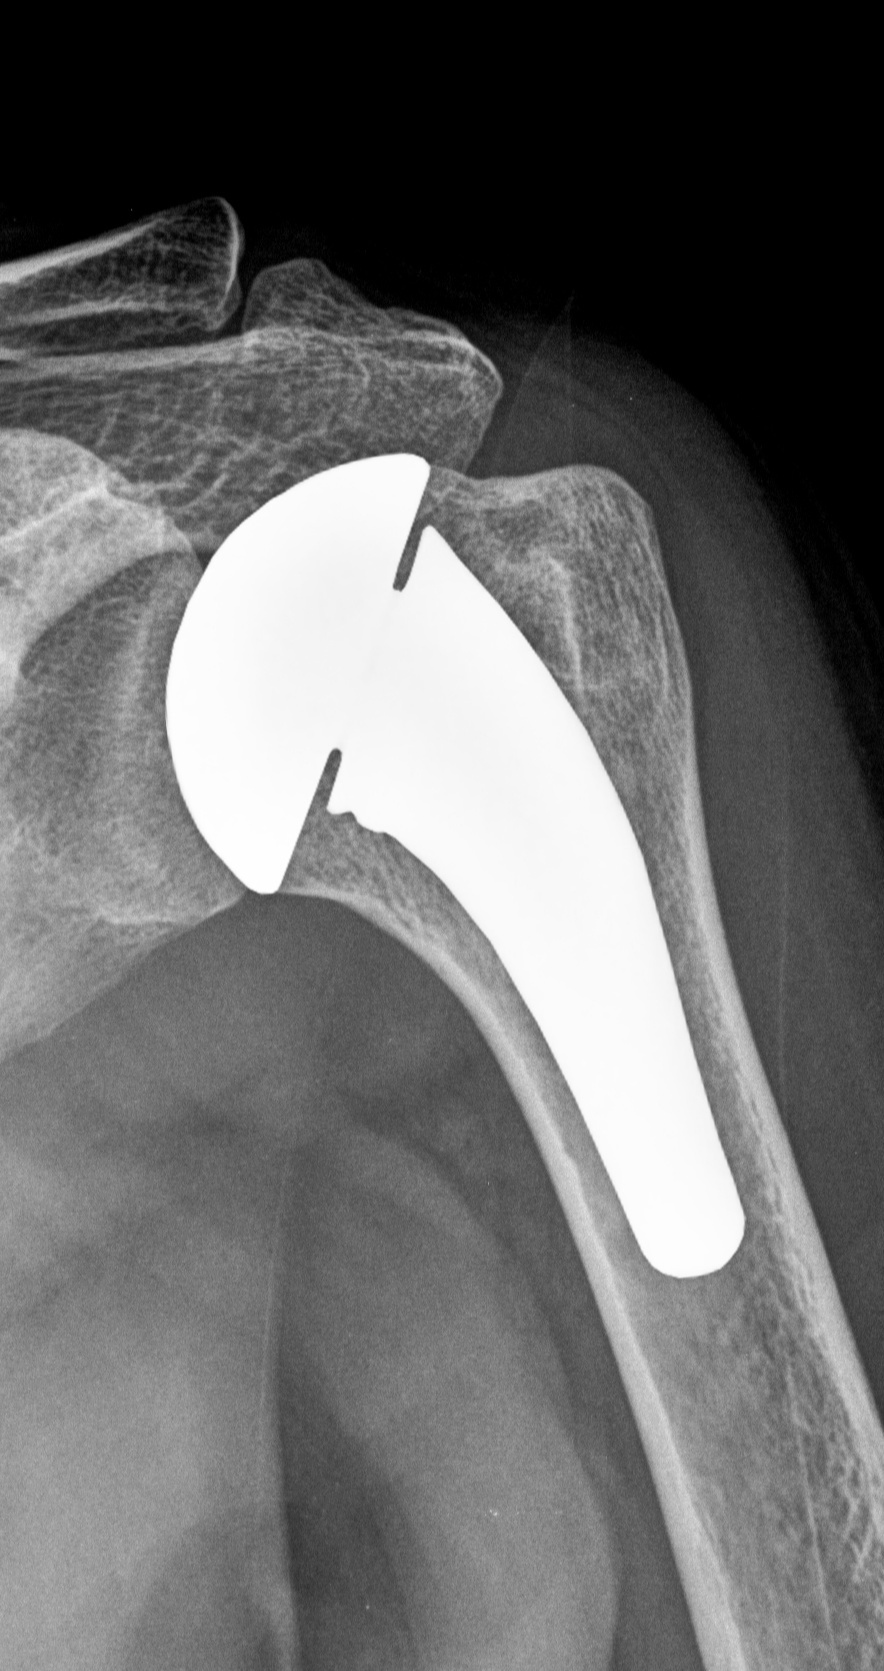Shoulder - AequalisAscendFlex - Tornier: (152, 416, 443, 905)
